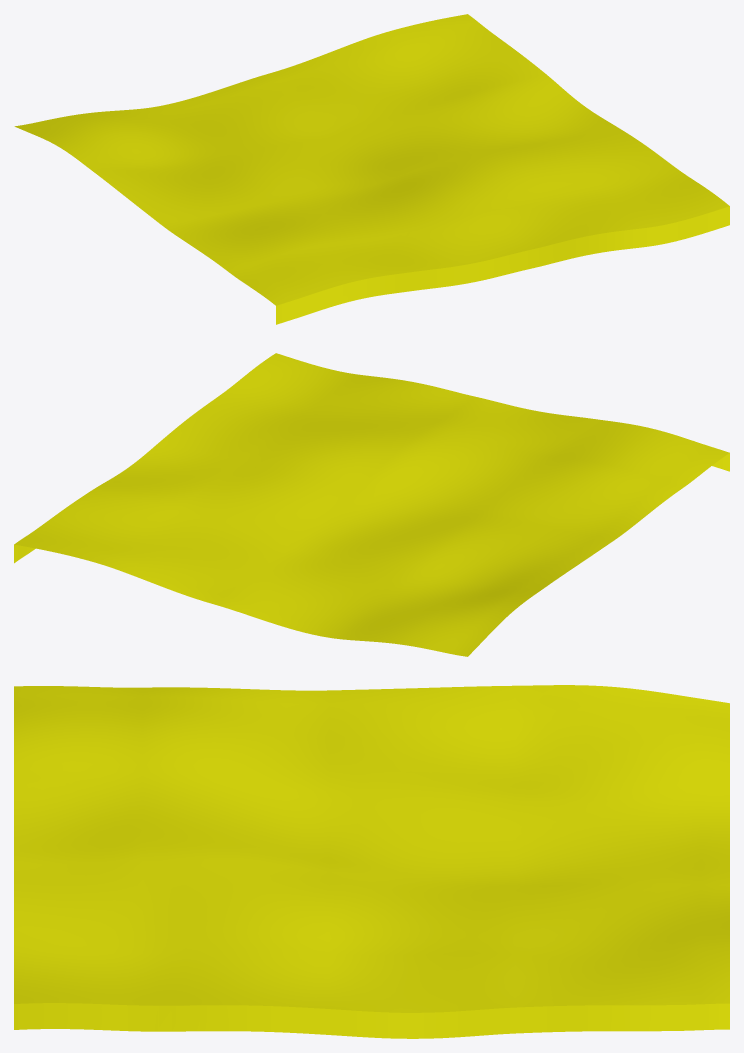
The model's file is terrain_3_0.glb.
The picture shows the model from 3 angles, top to bottom: view 1: azimuth 30°, elevation 25°; view 2: azimuth 150°, elevation 25°; view 3: azimuth 270°, elevation 25°; orthographic projection. The views are drawn at different scales.
Parts seen in each view (by area): view 1: terrain_3_0.0, terrain_3_0.1; view 2: terrain_3_0.0; view 3: terrain_3_0.0, terrain_3_0.1.
Boxes of the visible parts, x1,y1,x2,y2 form: terrain_3_0.0: (14, 14, 729, 305); terrain_3_0.1: (276, 206, 729, 324); terrain_3_0.0: (14, 353, 729, 656); terrain_3_0.0: (14, 685, 729, 1012); terrain_3_0.1: (14, 1003, 729, 1038).
Size of the model in its own units: 50 by 4.41 by 50.
